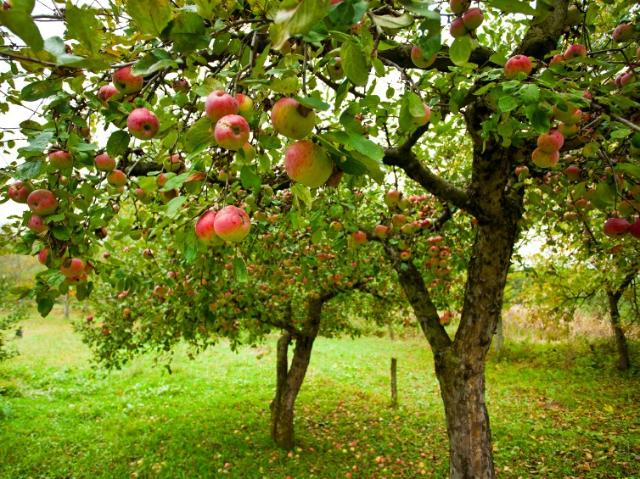Apple: (286, 140, 332, 188), (271, 99, 315, 139), (214, 205, 251, 242), (214, 115, 249, 151), (205, 90, 239, 122), (195, 210, 224, 246), (128, 109, 158, 139), (112, 66, 144, 94), (26, 189, 58, 215), (504, 55, 532, 79), (538, 129, 564, 153), (531, 148, 559, 167), (60, 259, 84, 278), (95, 154, 116, 172), (108, 170, 128, 188)
